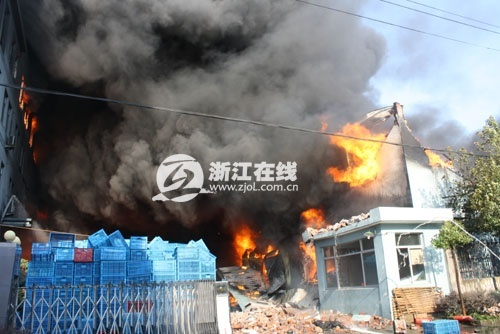fire: (232, 208, 324, 286), (323, 120, 389, 188), (16, 76, 41, 159), (426, 149, 451, 168)
